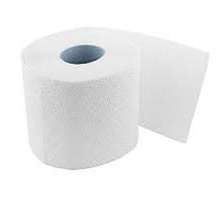tissue: (14, 19, 213, 175)
